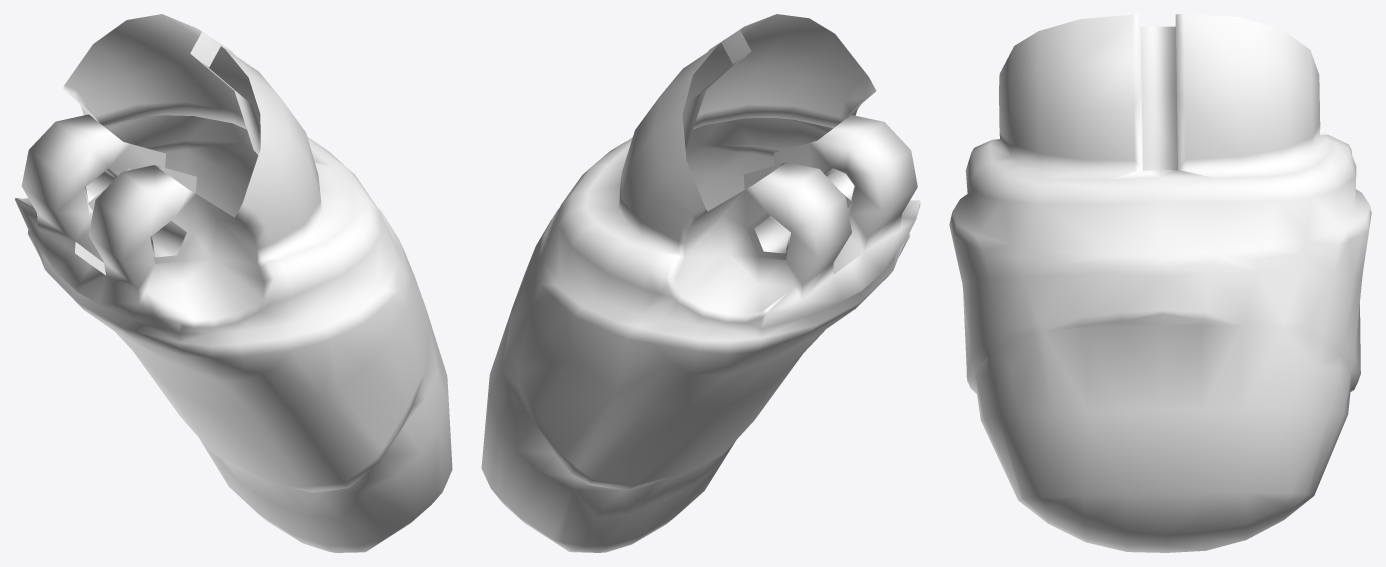
The model's file is LThumb2.1.dae.
3 renders of one model, left to right at view 1: azimuth 30°, elevation 25°; view 2: azimuth 150°, elevation 25°; view 3: azimuth 270°, elevation 25°, orthographic. The views are drawn at different scales.
Parts seen in each view (by area): view 1: LThumb2; view 2: LThumb2; view 3: LThumb2.
Boxes of the visible parts, left/top/right/bottom form: LThumb2: left=15, top=14, right=452, bottom=552; LThumb2: left=481, top=14, right=920, bottom=552; LThumb2: left=949, top=14, right=1371, bottom=552.
Bounding box in the file's own units: 0.0144 × 0.0162 × 0.0205.
1 material, 1 textured.
